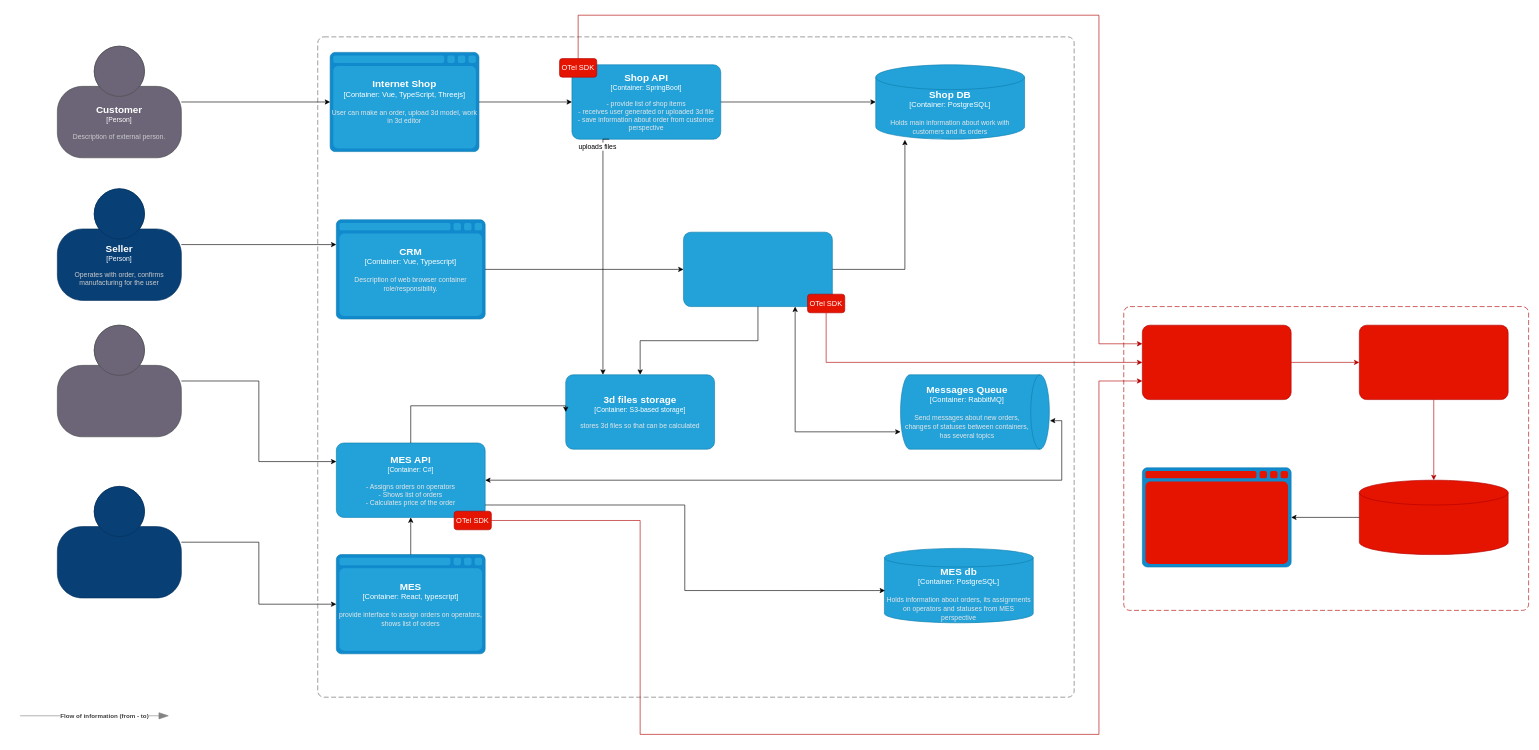
Some shapes in this 1539 by 750 pixel diagram are drawn without their labels. The shapes that lost their labels are listed below. From the top down, each one's box as (x1, y1, x2, y2) in pixels, then its label:
(683, 232, 832, 307): CRM API [Container: SpringBoot] Description of container role/responsibility.
(57, 325, 181, 437): API user [Person] Description of external person.
(317, 36, 1074, 697): Jewerly Store System [Software System]
(1142, 325, 1291, 400): OTel Collector [Container: OpenTelemetry] OpenTelemetry traces collector
(1359, 325, 1508, 400): Jaeger Collector [Container: Jaeger] Jaeger traces collector
(1142, 467, 1291, 567): Tracing Dashboard [Container: Jaeger UI]
(1359, 480, 1508, 555): Tracing DB [Container: ElasticSearch] Tracing Storage
(57, 486, 181, 598): Operator [Person] Takes order in work, manufactures jewerly
